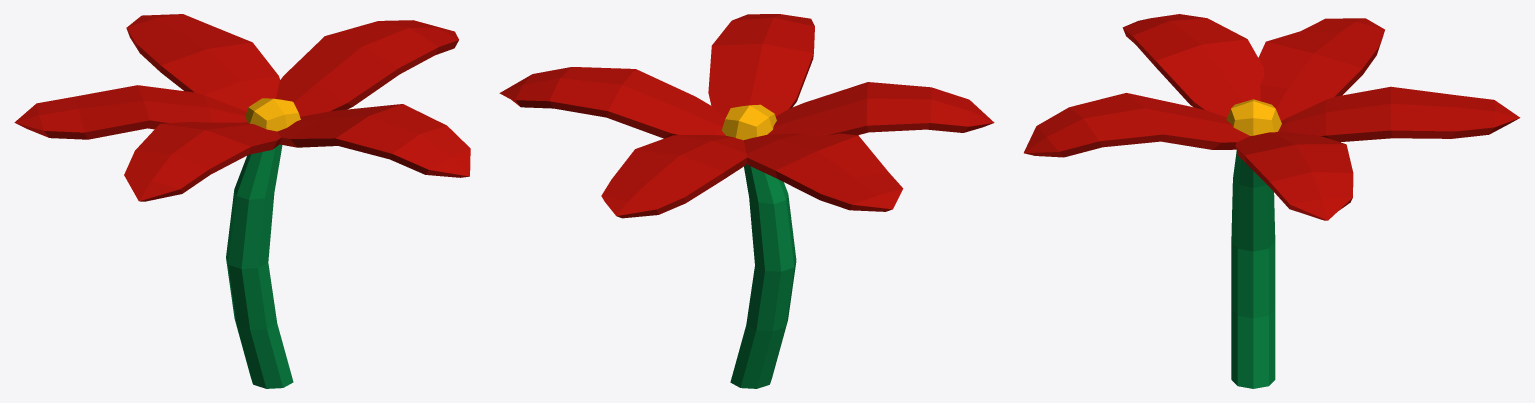
The model's file is Flower2.fbx.
3 views of the same model, side by side, from view 1: azimuth 30°, elevation 25°; view 2: azimuth 150°, elevation 25°; view 3: azimuth 270°, elevation 25° (orthographic). The views are drawn at different scales.
Visible parts, largest first — view 1: Flower2; view 2: Flower2; view 3: Flower2.
Part boxes in pixels (<box>): Flower2: <box>14,14,470,388</box>; Flower2: <box>499,14,994,388</box>; Flower2: <box>1024,14,1520,388</box>.
Bounding box in the file's own units: 23.59 × 15.7 × 24.22.
1 material, 1 textured.
